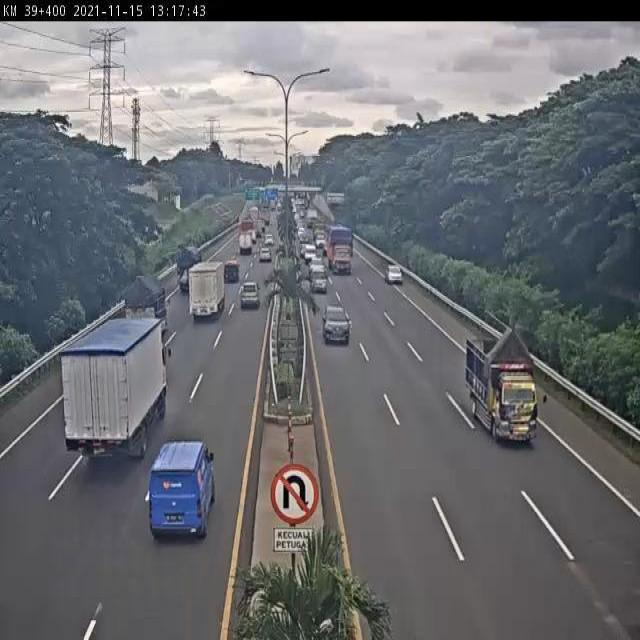bus-s-: (147, 440, 217, 543)
car: (321, 301, 351, 347), (308, 262, 330, 294), (239, 278, 261, 310), (384, 263, 405, 288)
truck-l-: (323, 222, 355, 278)
truck-m-: (67, 317, 168, 459), (466, 329, 541, 448), (123, 275, 170, 348), (188, 262, 227, 326), (175, 243, 204, 296)
truck-s-: (221, 257, 241, 284)
